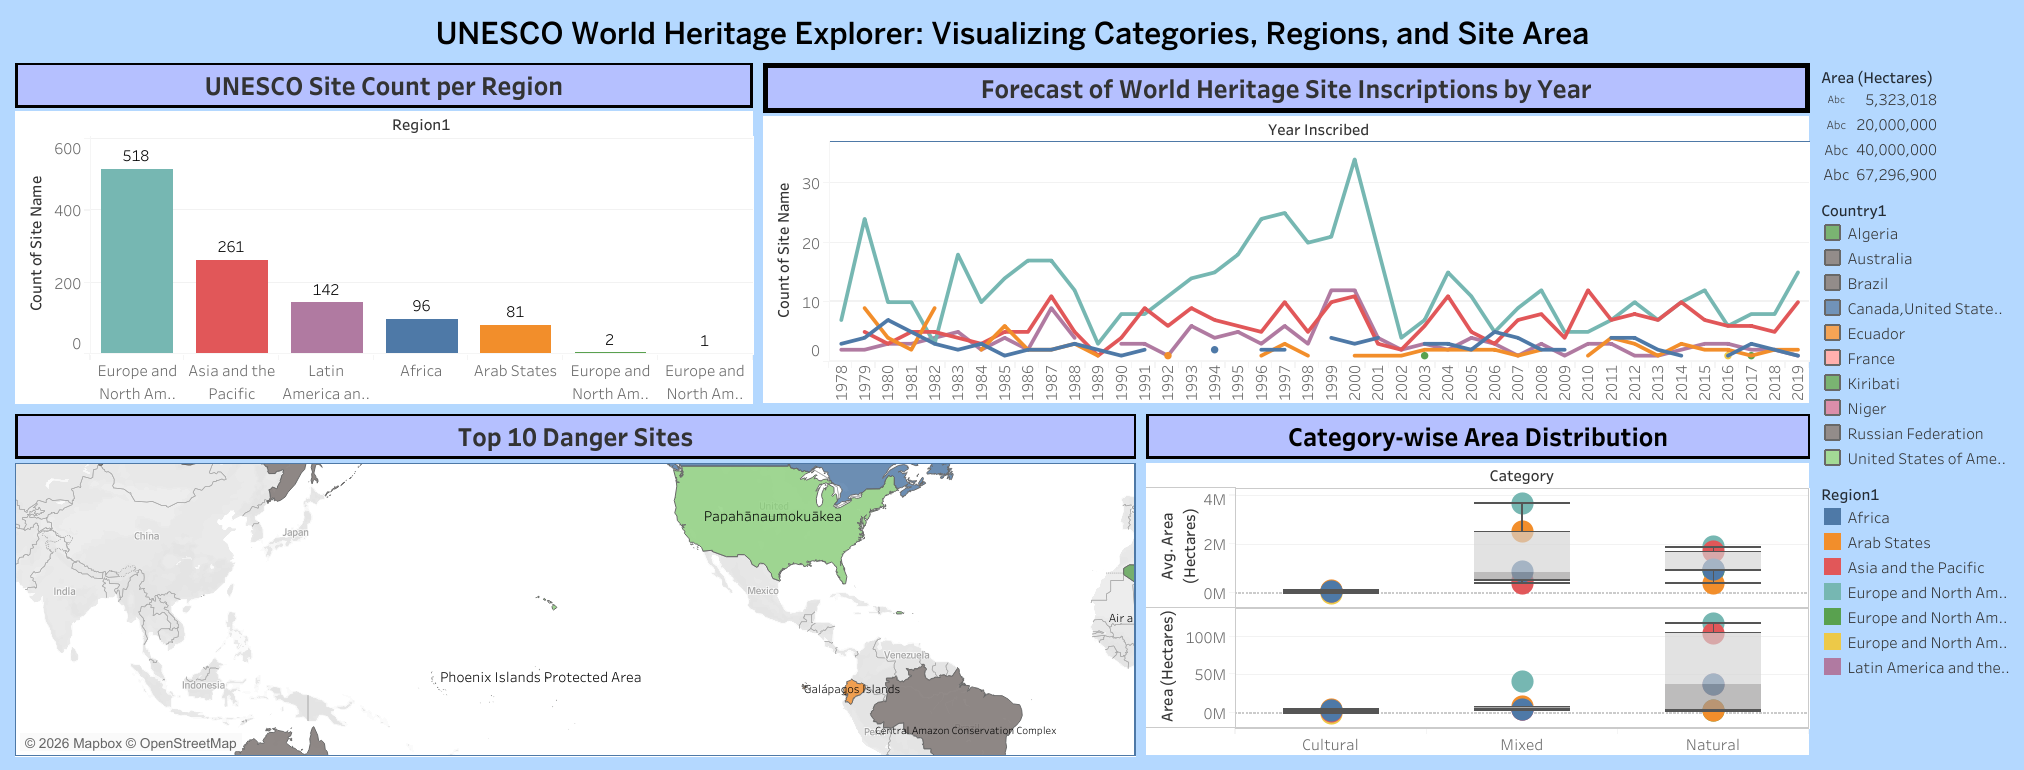

The dashboard page shown, as its layout file describes it:
{"tool":"tableau","page":{"name":"Dashboard 2","canvas":[1000,1000],"units":"permille","ordinal":1},"visuals":[{"type":"title","box":[4.9,9.4,990.1,51.6]},{"type":"worksheet","title":"Site Count per Region","mark":"Automatic","rows":["Site Name"],"cols":["Region"],"box":[4.9,61,369.3,464.8]},{"type":"worksheet","title":"World Heritage Site Forecast","mark":"Line","rows":["Site Name"],"cols":["Year Inscribed"],"box":[374.2,61,522,464.8]},{"type":"legend","title":"Danger Sites","param":"[federated.00dolh70u5qkk31frybyx1fhfz2t].[sum:Area (Hectares):qk]","box":[896.3,61,98.8,133.8]},{"type":"legend","title":"Danger Sites","param":"[federated.00dolh70u5qkk31frybyx1fhfz2t].[none:Country:nk]","box":[896.3,194.8,98.8,281.7]},{"type":"legend","title":"World Heritage Site Forecast","param":"[federated.00dolh70u5qkk31frybyx1fhfz2t].[none:Region:nk]","box":[896.3,476.5,98.8,207.8]},{"type":"worksheet","title":"Danger Sites","mark":"Multipolygon","box":[4.9,525.8,558.6,464.8]},{"type":"worksheet","title":"Area Distribution","mark":"Circle","rows":["Area (Hectares)","Area (Hectares)"],"cols":["Category"],"box":[563.6,525.8,332.7,464.8]}]}

Visuals, with their boxes on the dashboard's canvas, which has no fixed pixel size, in thousandths of its width and height (x1, y1, x2, y2). These are canvas units, not pixel positions in the 2024x770 screenshot, which may show the page scaled, cropped or inside an application window:
title: 5:9:995:61
"Site Count per Region" worksheet: 5:61:374:526
"World Heritage Site Forecast" worksheet (Line marks): 374:61:896:526
"Danger Sites" legend: 896:61:995:195
"Danger Sites" legend: 896:195:995:476
"World Heritage Site Forecast" legend: 896:476:995:684
"Danger Sites" worksheet (Multipolygon marks): 5:526:564:991
"Area Distribution" worksheet (Circle marks): 564:526:896:991
